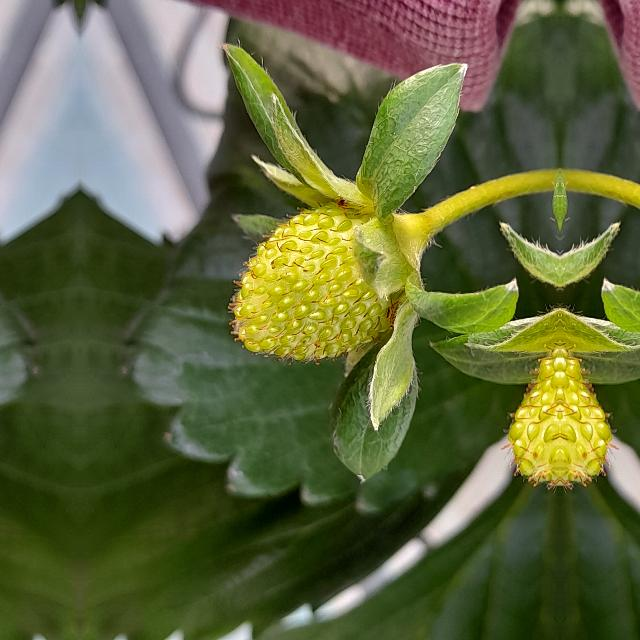Health_25: (226, 200, 390, 364)
